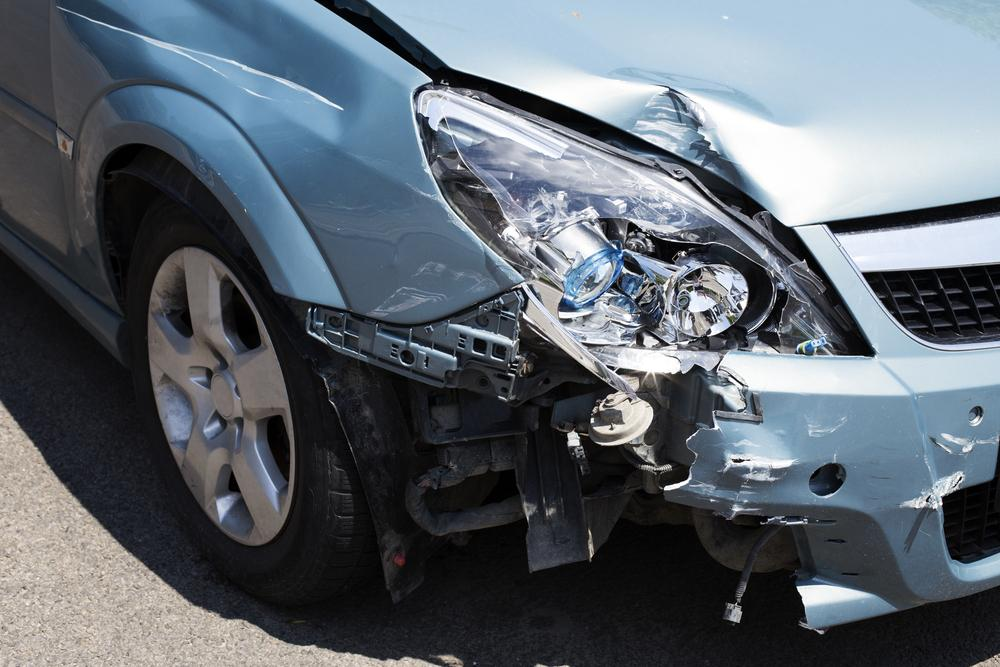dent: (591, 29, 809, 203), (138, 2, 363, 143)
lamp broken: (417, 87, 871, 361)
scratch: (718, 407, 860, 512), (890, 423, 1000, 510), (366, 257, 489, 317)
